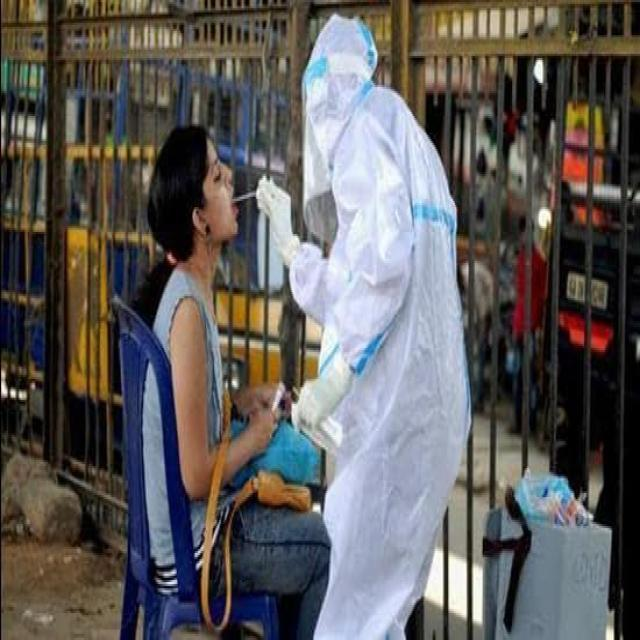Coverall: (284, 10, 476, 640)
Gloves: (292, 352, 361, 443), (253, 170, 300, 267)
